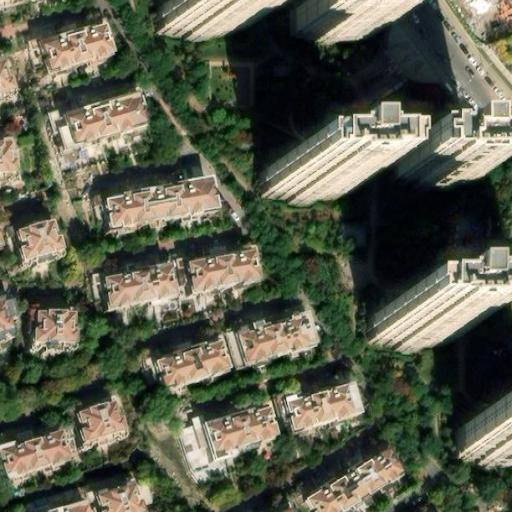building: (306, 446, 408, 512), (47, 89, 149, 152), (96, 185, 213, 233), (280, 387, 359, 440), (155, 335, 231, 390), (43, 19, 117, 73), (235, 316, 310, 369), (271, 15, 363, 57), (208, 404, 280, 455), (178, 251, 257, 296), (0, 428, 70, 478), (263, 165, 354, 202), (370, 309, 460, 346), (373, 161, 459, 199), (106, 264, 178, 307), (163, 3, 247, 35), (76, 397, 132, 444), (15, 218, 66, 263), (177, 414, 215, 471), (29, 298, 76, 344), (461, 426, 512, 462), (96, 479, 147, 512), (21, 487, 87, 512), (0, 135, 21, 181), (0, 295, 20, 340), (0, 54, 18, 97)
